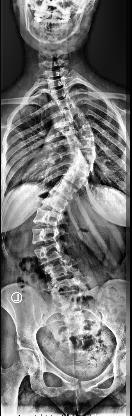Vertebrae: (30, 224, 64, 245), (37, 192, 68, 214), (50, 280, 84, 300), (32, 208, 64, 228), (35, 246, 69, 264), (45, 262, 76, 280), (51, 180, 77, 200), (66, 170, 88, 188), (70, 158, 92, 176), (68, 124, 96, 138), (72, 147, 96, 161), (65, 115, 89, 129), (70, 136, 98, 146), (50, 88, 70, 102), (46, 76, 66, 90), (63, 106, 82, 120), (58, 96, 76, 110)
